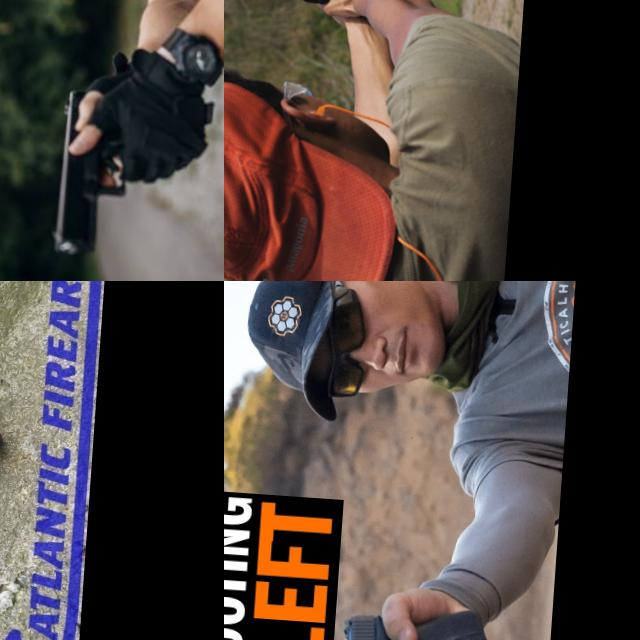handgun: (0, 331, 108, 617), (44, 84, 136, 264), (329, 596, 494, 640), (294, 0, 333, 27)
